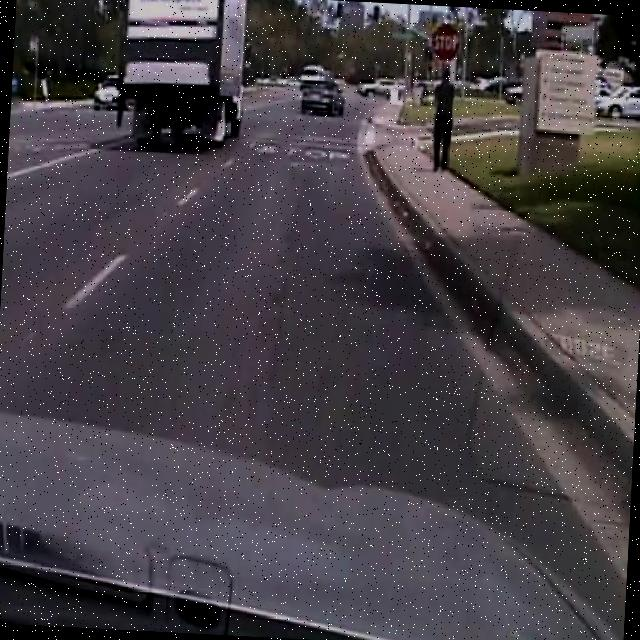Stop: (430, 20, 462, 66)
